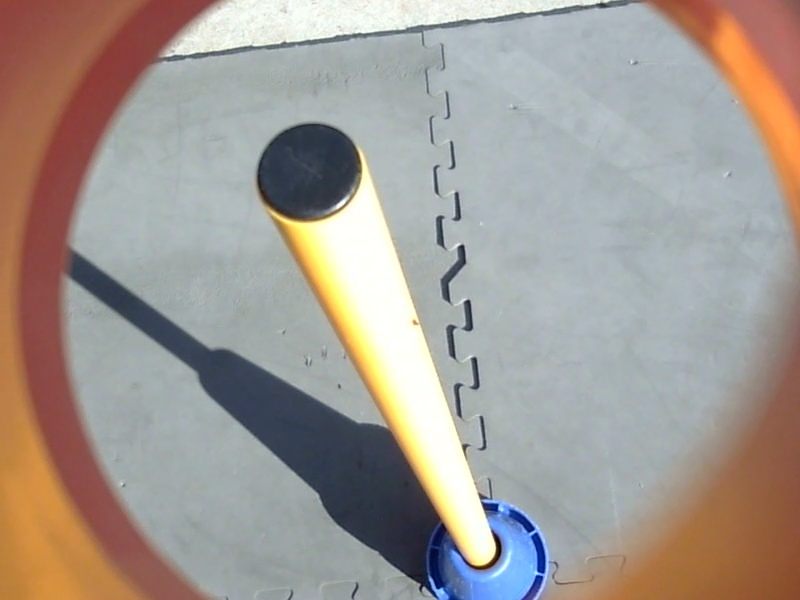tip: (251, 118, 373, 229)
